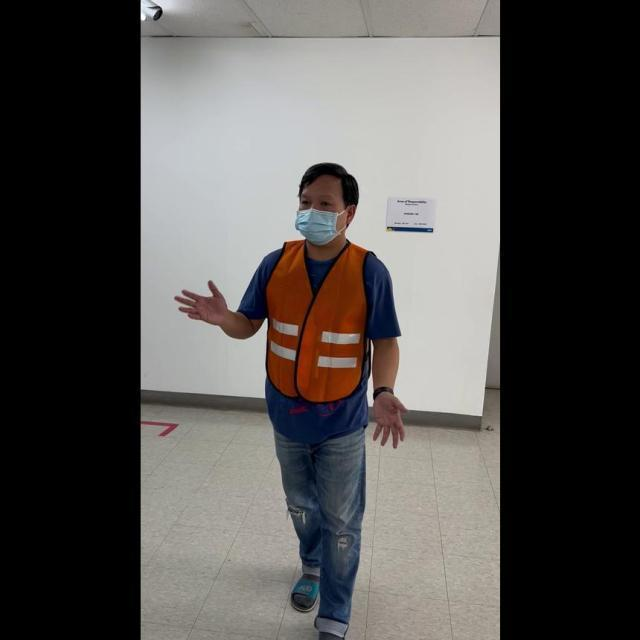bare_hand: (366, 386, 408, 449), (173, 276, 226, 325)
